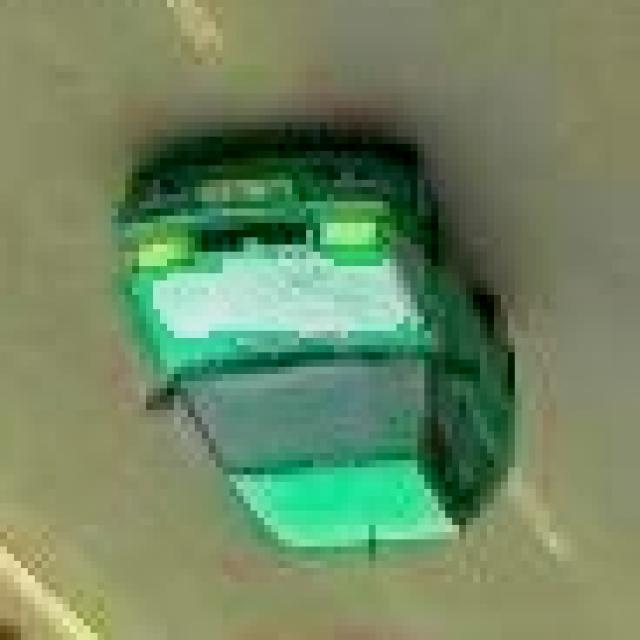green: (125, 115, 515, 539)
